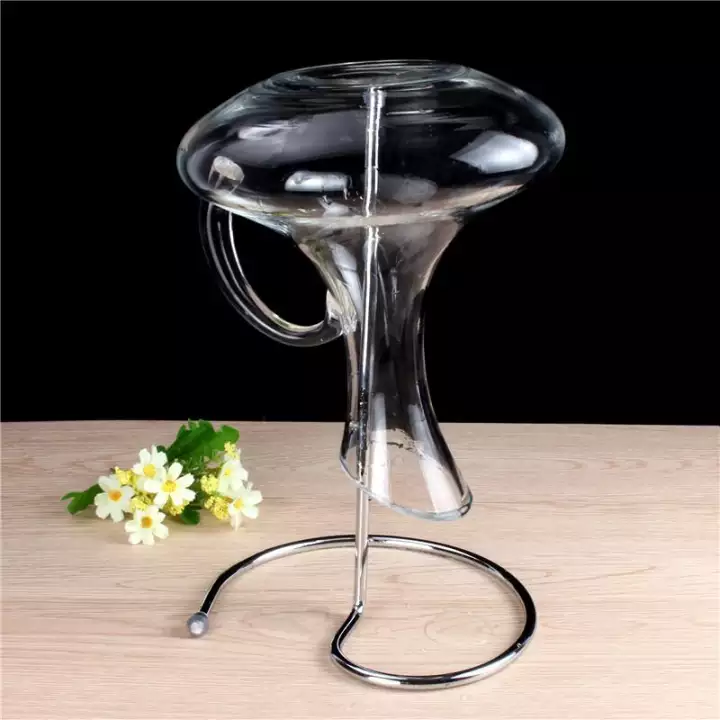glass_bottle: (170, 41, 591, 531)
